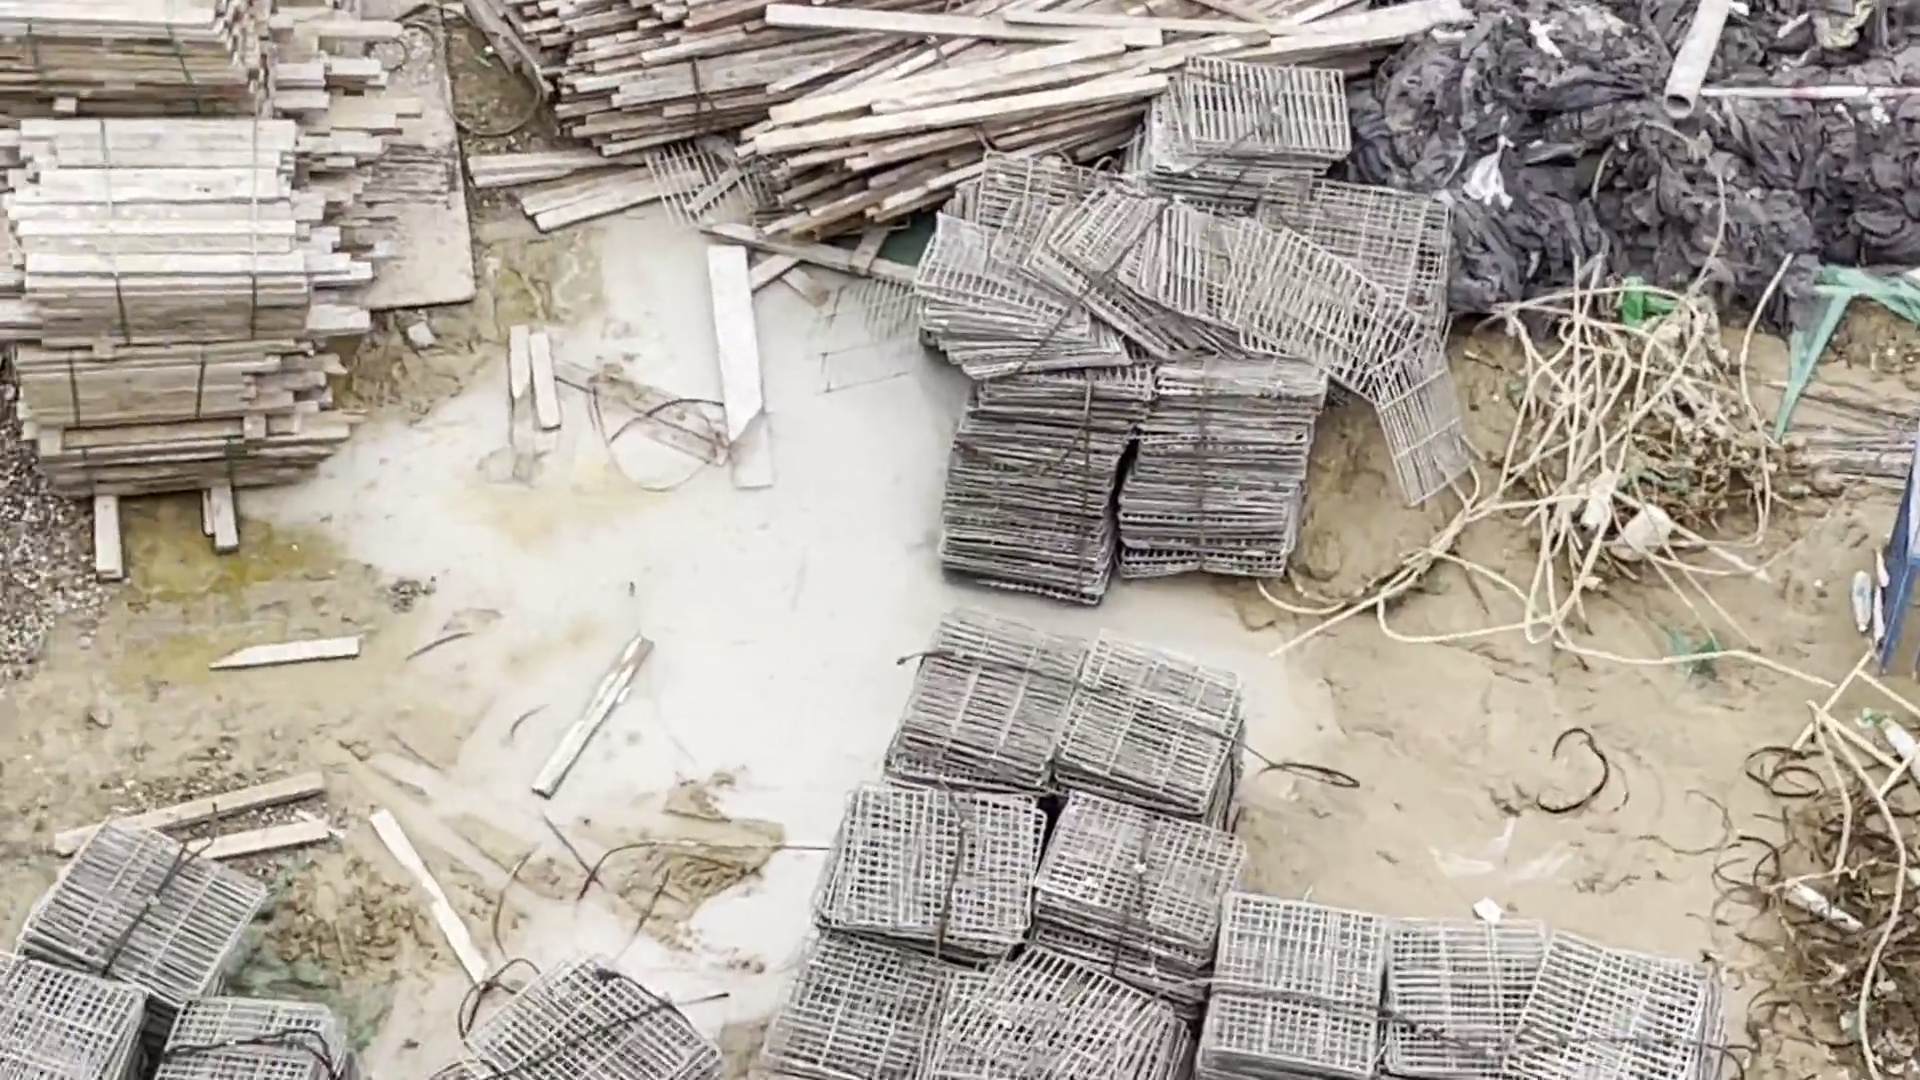wood: (4, 9, 378, 579)
